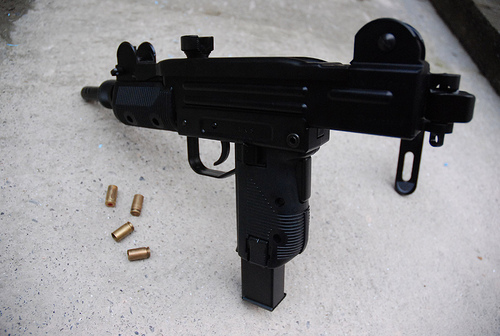rifle: (56, 32, 484, 303)
